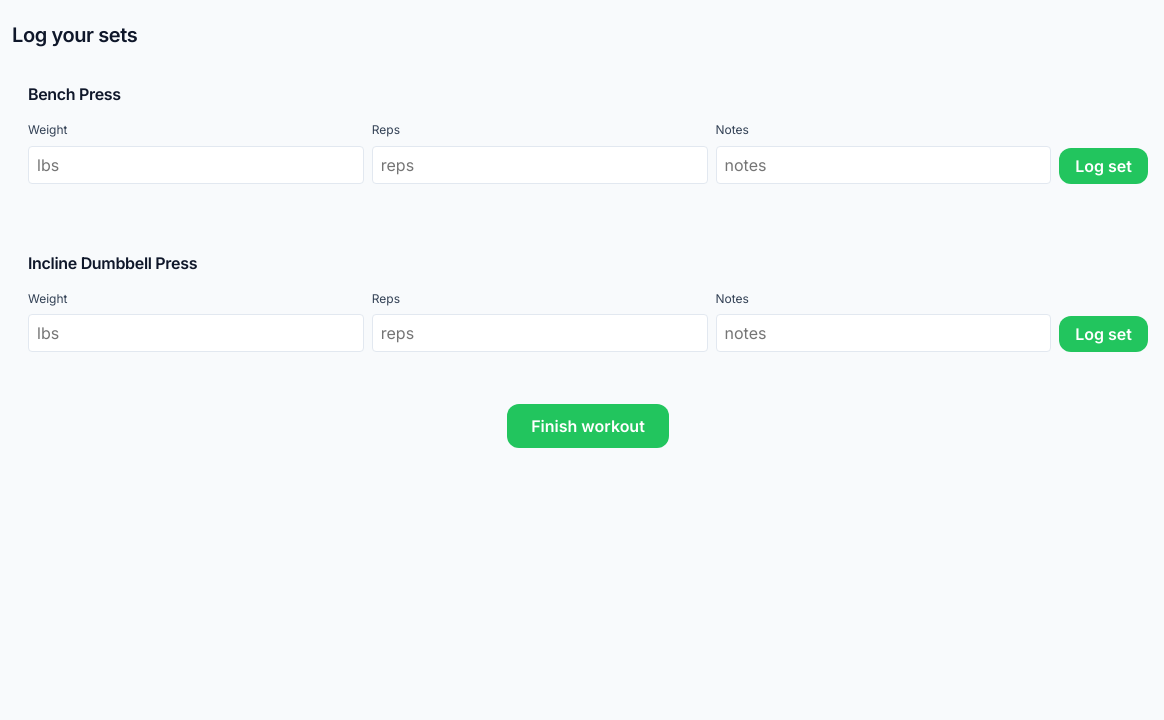
Test: AnonymousWorkoutLogger › logs multiple sets for the same exercise
The image size is (1164, 720).
# Log first set
Type "225" into the number field with placeholder "lbs" below "Bench Press" at (196, 165), box [28,146,364,184]
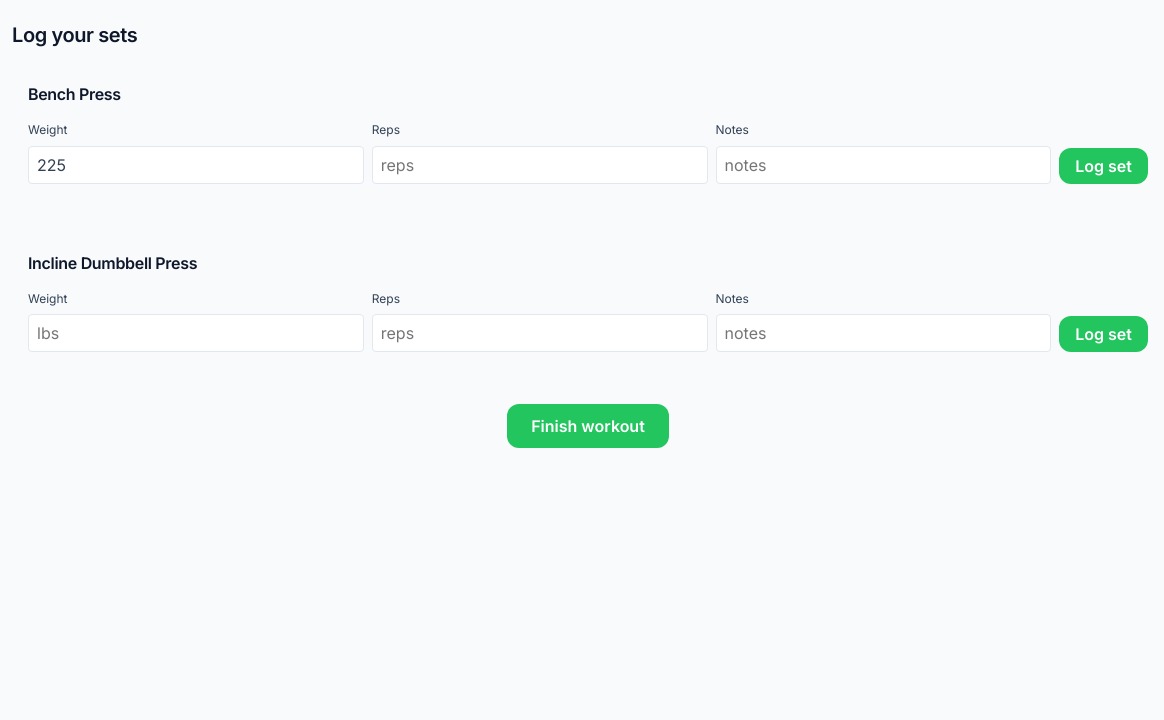
Type "8" into the number field with placeholder "reps" below "Bench Press" at (540, 165), box [372,146,708,184]
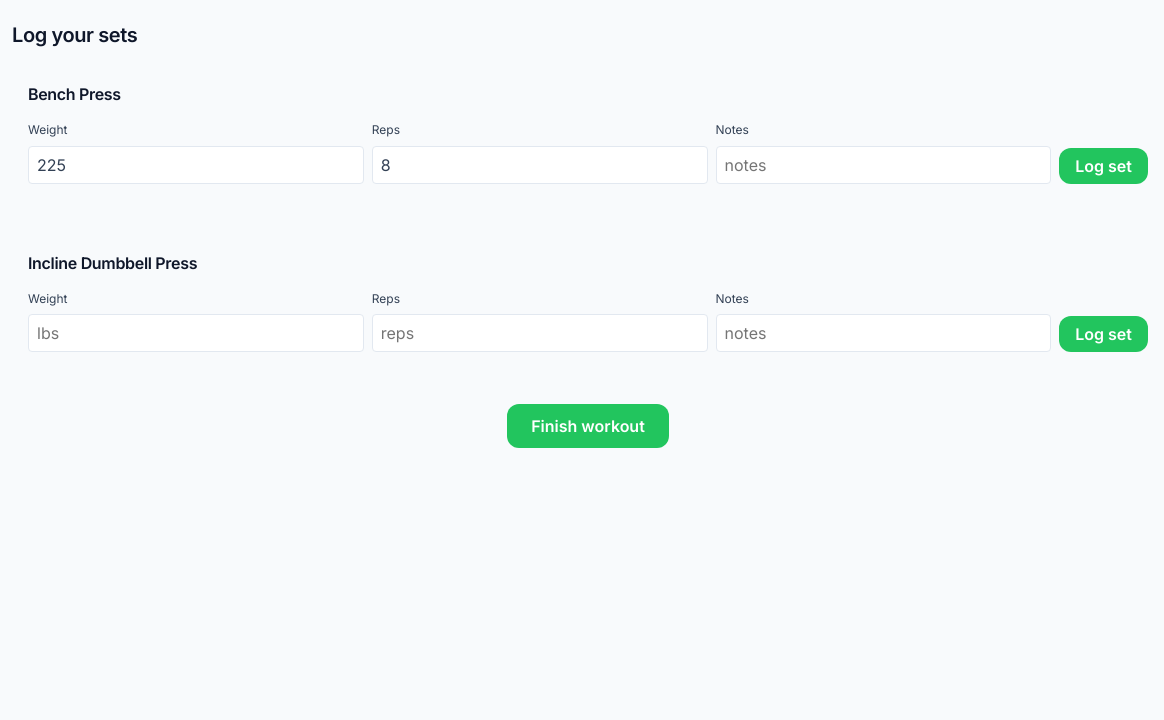
Click the 1st button "Log set" at (1104, 166), box [1059,148,1148,184]
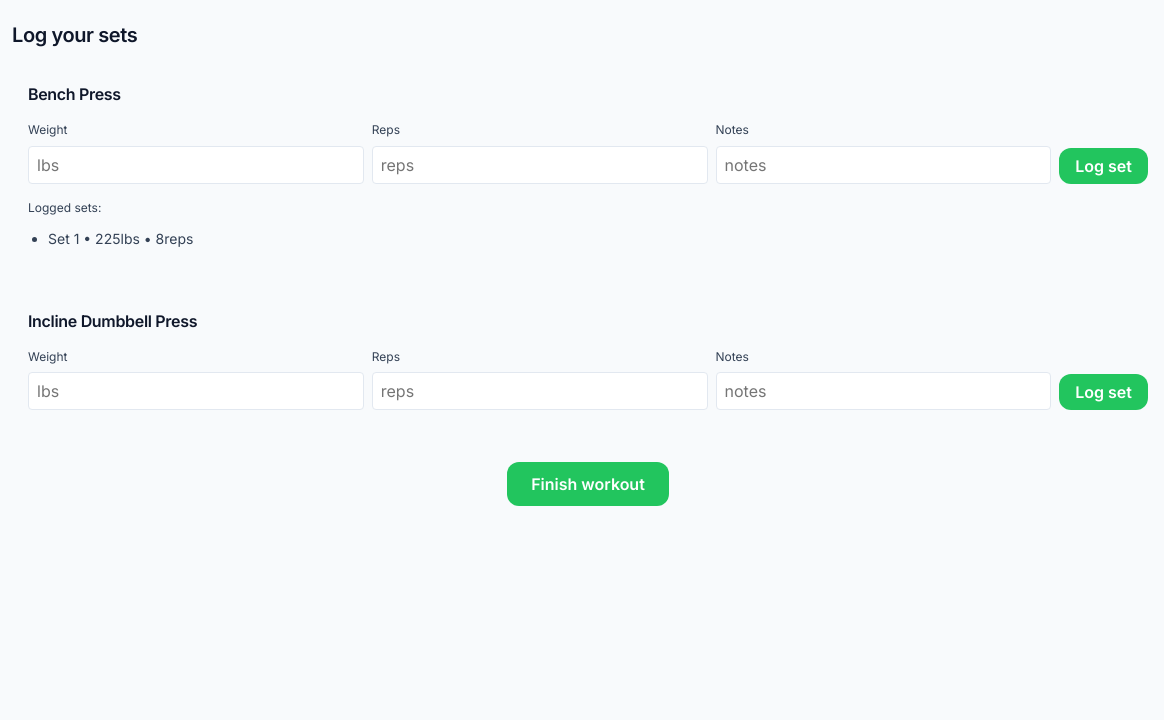
# Log second set
Type "225" into the number field with placeholder "lbs" below "Bench Press" at (196, 165), box [28,146,364,184]
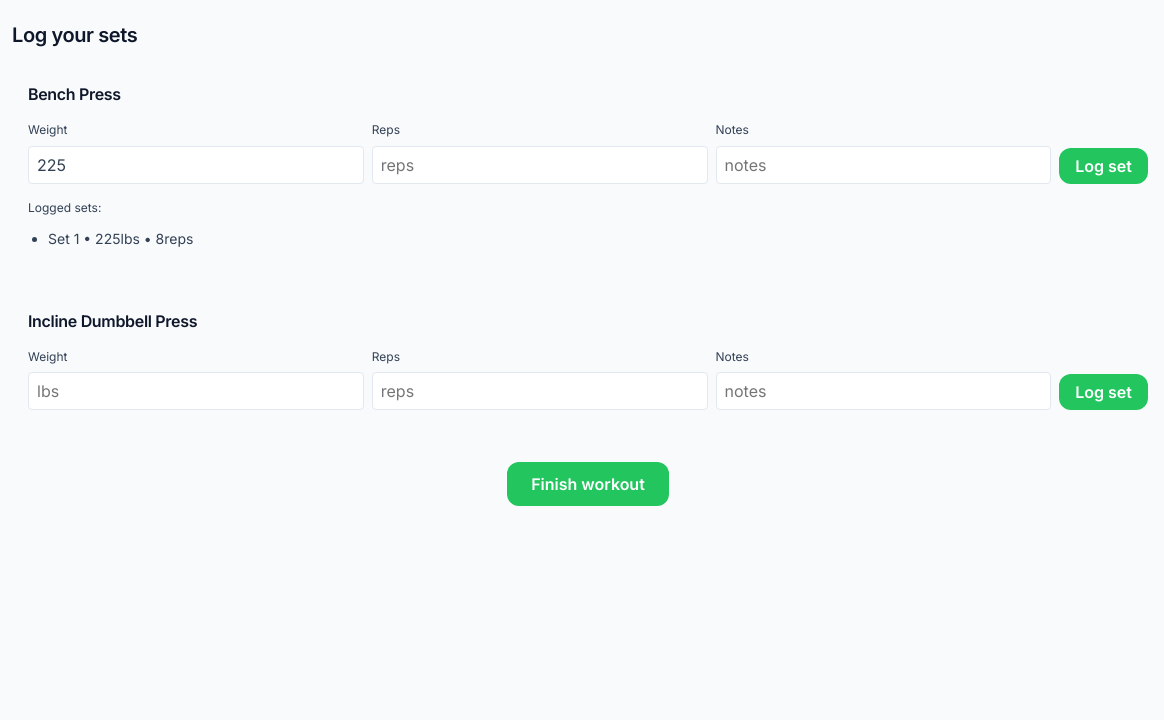
Type "6" into the number field with placeholder "reps" below "Bench Press" at (540, 165), box [372,146,708,184]
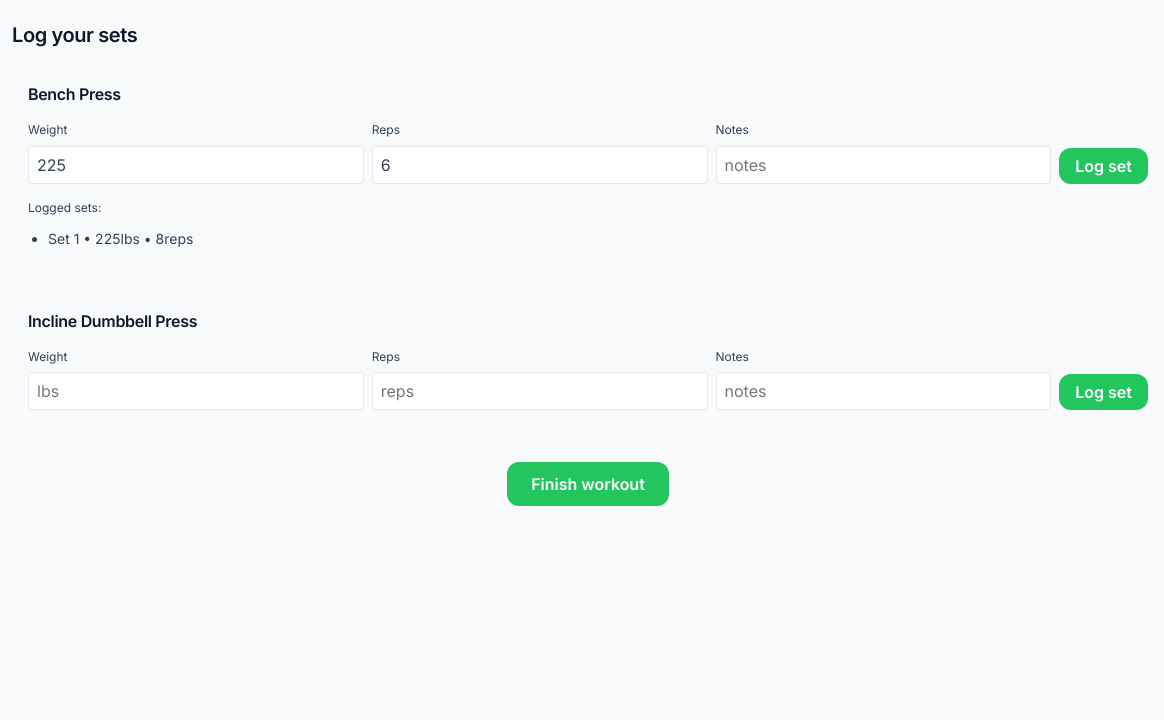
Click the 1st button "Log set" at (1104, 166), box [1059,148,1148,184]
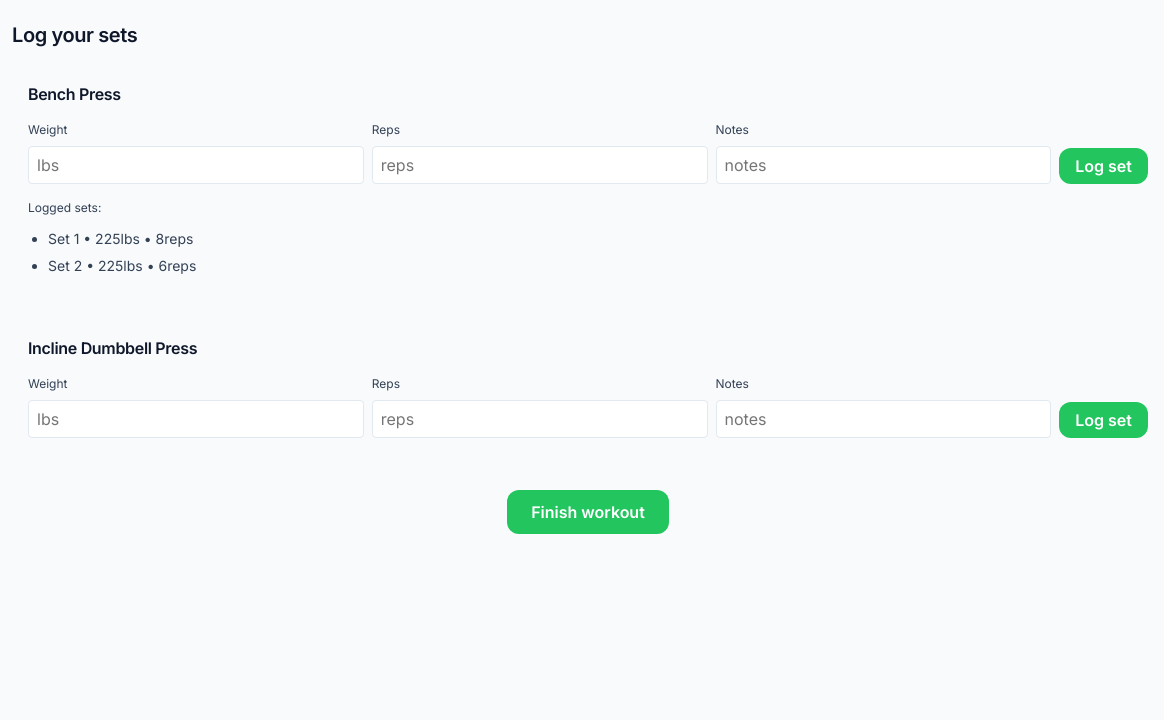
Result: the list item "Set 1 • 225lbs • 8reps" is shown at [48,230,194,247]
Result: the list item "Set 2 • 225lbs • 6reps" is shown at [48,257,196,274]
